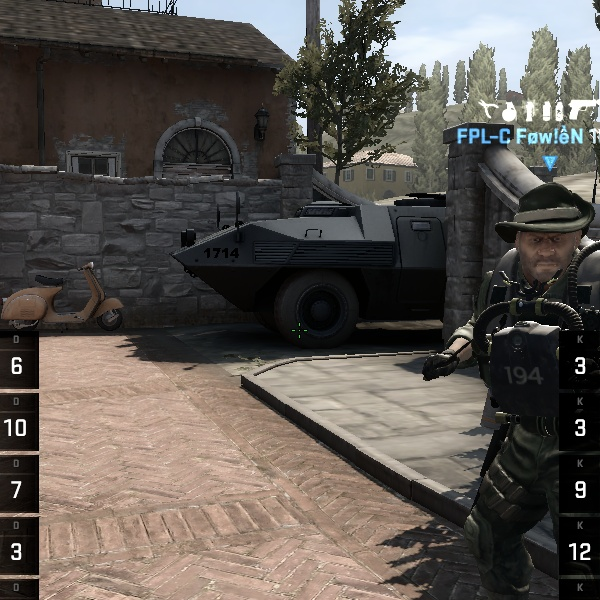ct_body: (402, 163, 596, 600)
ct_head: (488, 175, 598, 291)
